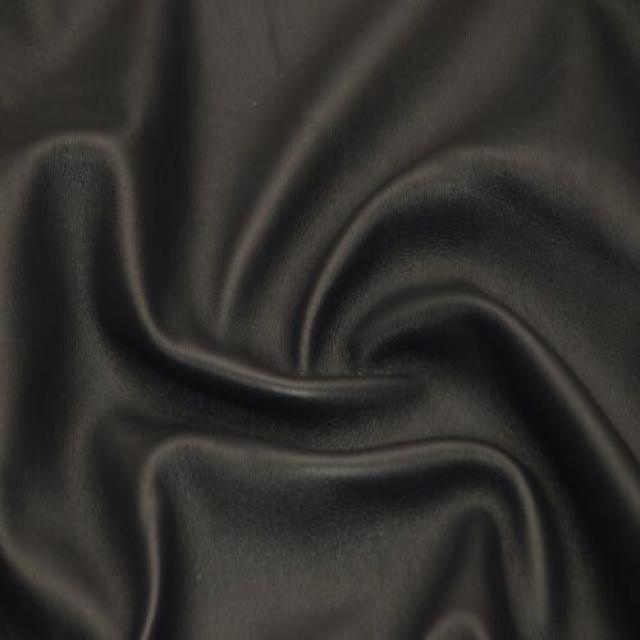Crease: (202, 149, 326, 333), (380, 275, 526, 393), (108, 433, 200, 608)
